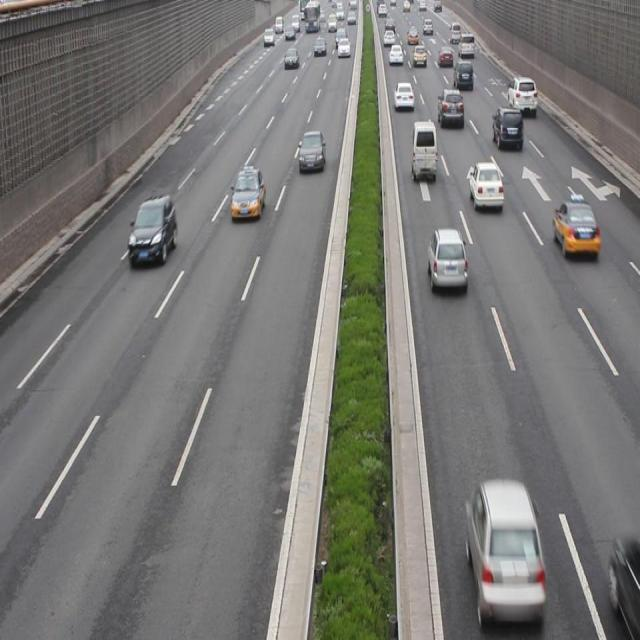car: (465, 479, 543, 617), (128, 198, 177, 262), (608, 534, 640, 624), (549, 199, 597, 257), (426, 228, 468, 293), (230, 167, 266, 219), (468, 164, 502, 211), (492, 106, 522, 152), (298, 132, 326, 170)
truck: (410, 120, 437, 182)
